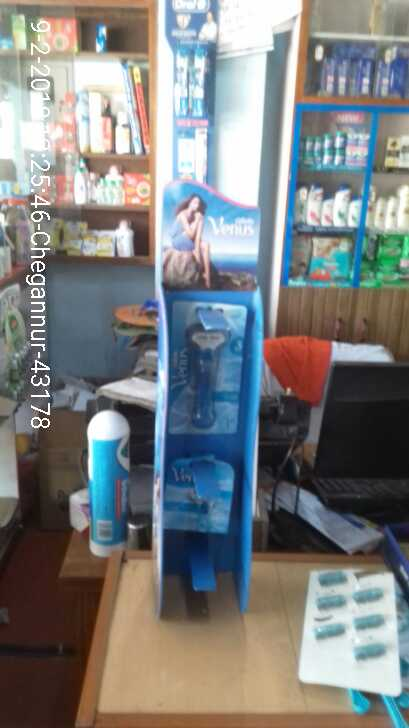beauty: (170, 300, 242, 434), (153, 455, 238, 536), (334, 186, 350, 227), (307, 184, 321, 228), (380, 134, 399, 166), (295, 184, 307, 232), (399, 187, 409, 233), (386, 198, 399, 232), (346, 199, 361, 227), (374, 197, 386, 230), (323, 194, 333, 227), (399, 135, 408, 170)
pharmacy: (177, 44, 212, 119), (312, 233, 352, 279), (295, 233, 310, 283), (376, 233, 403, 257), (375, 256, 398, 282), (300, 153, 337, 166), (345, 148, 367, 166), (298, 135, 320, 151), (357, 131, 374, 148), (346, 128, 359, 149), (320, 132, 335, 149), (335, 129, 348, 148), (335, 146, 346, 163)
